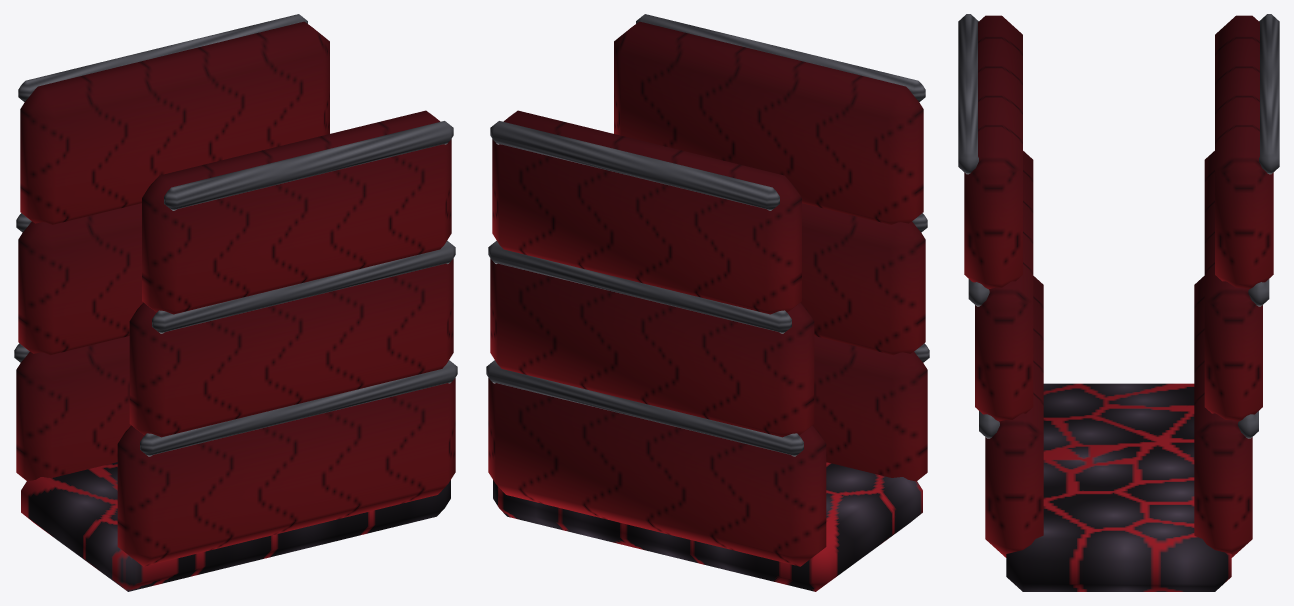
Rendered from parasite_hide_plated.obj.
3 renders of one model, left to right at view 1: azimuth 30°, elevation 25°; view 2: azimuth 150°, elevation 25°; view 3: azimuth 270°, elevation 25°, orthographic. The views are drawn at different scales.
Parts seen in each view (by area): view 1: hide_plated; view 2: hide_plated; view 3: hide_plated.
Part boxes in pixels (x1=…): hide_plated: x1=14, y1=14, x2=457, y2=591; hide_plated: x1=486, y1=14, x2=929, y2=591; hide_plated: x1=958, y1=14, x2=1279, y2=591.
Bounding box in the file's own units: 0.6 × 0.7126 × 0.4812.
